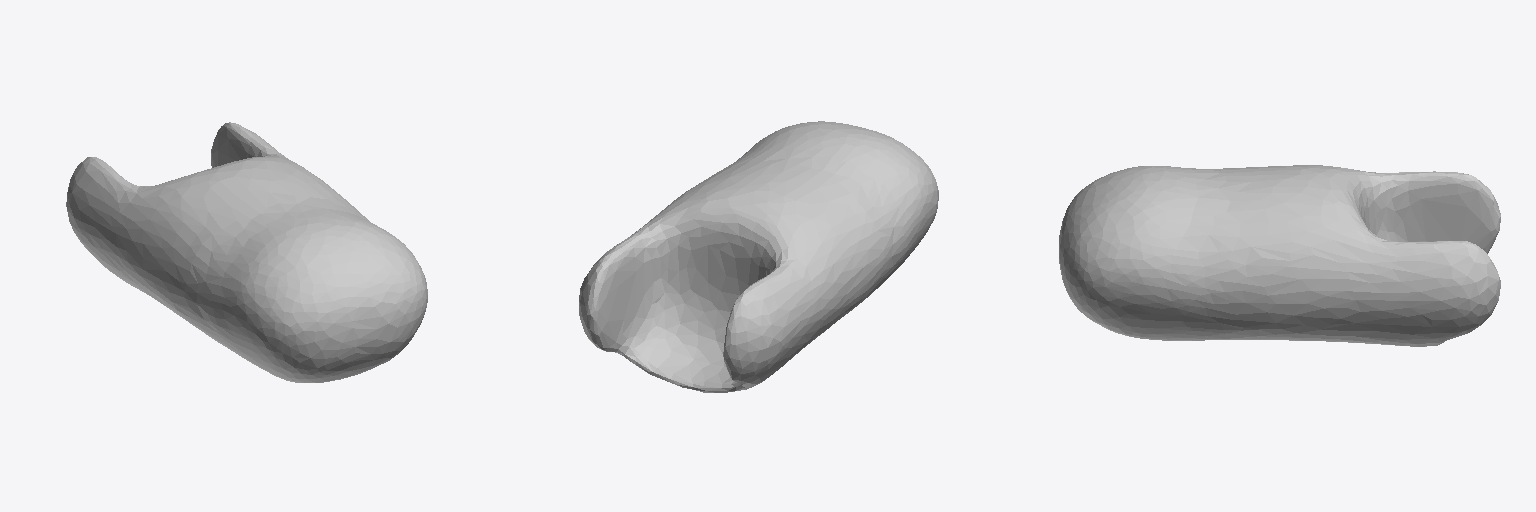
File: seg_L_mirrored.obj
The picture shows the model from 3 angles: view 1: azimuth 30°, elevation 25°; view 2: azimuth 150°, elevation 25°; view 3: azimuth 270°, elevation 25°; orthographic projection.
Bounding box in the file's own units: 18.12 × 13.61 × 35.65.